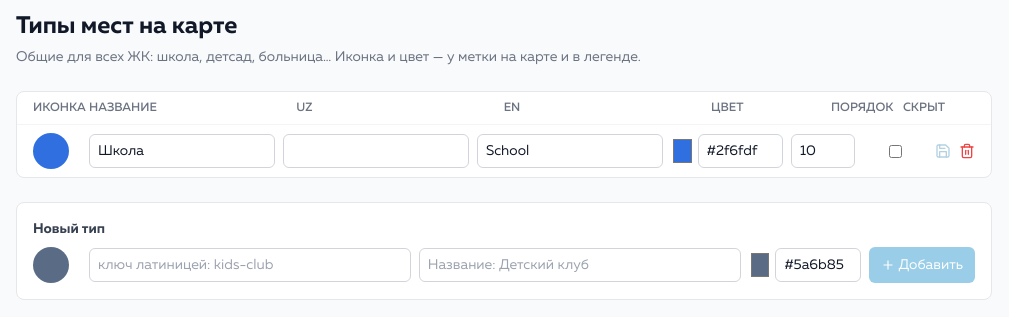
it: PlaceTypesPanel › удаление свободного типа убирает строку
Check: the element with test id "type-school" is shown, box x1=17 y1=124 x2=991 y2=177
Click the button named "Удалить тип" at (967,151), box x1=959 y1=143 x2=975 y2=159
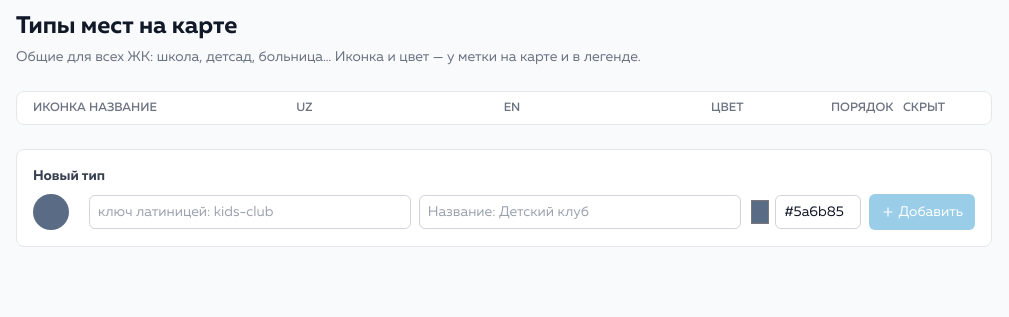
Check: the element with test id "type-school" is gone
